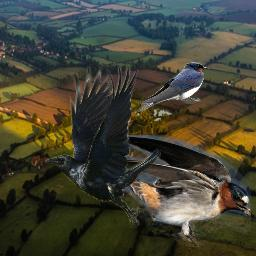Crow: (45, 61, 161, 228)
Swallow: (102, 135, 251, 247), (132, 62, 209, 115)
